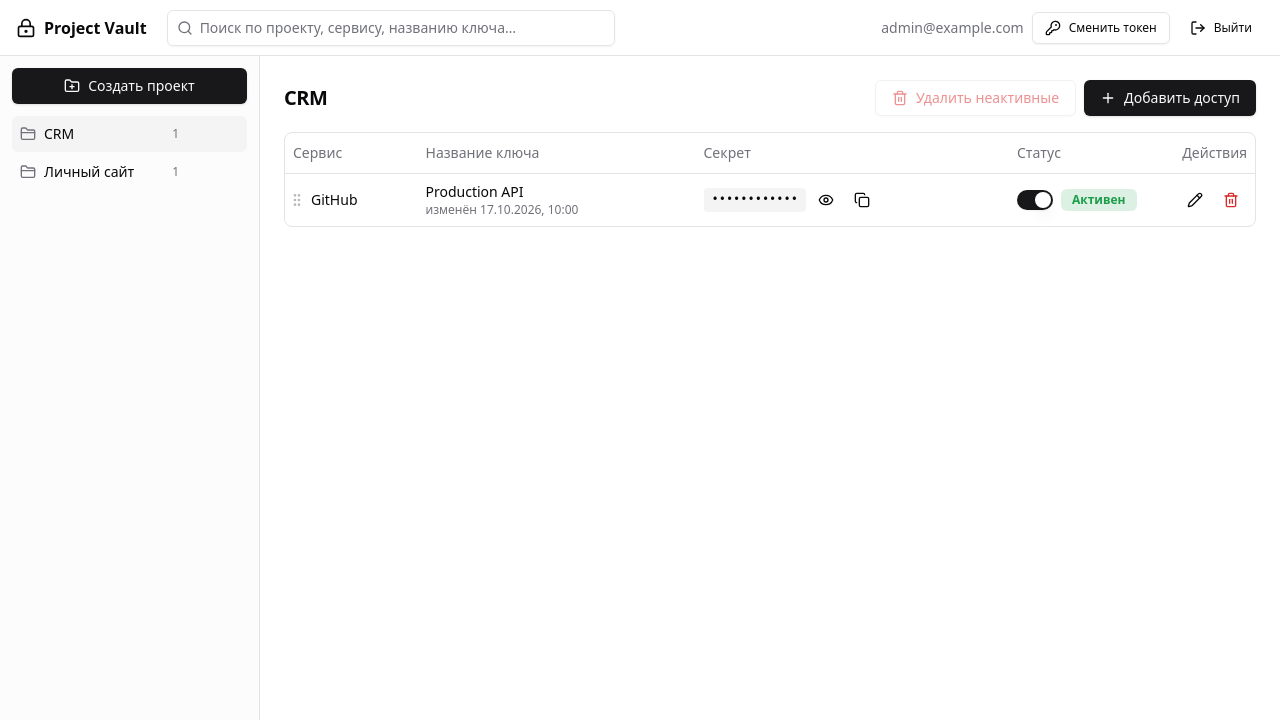
Test: dashboard › searches across projects by project, service and key name
Expected: the button "Создать проект" is shown, left=12, top=68, right=247, bottom=104
Expected: the cell "GitHub" is shown, left=285, top=173, right=418, bottom=226
Type "сайт" into the search field labelled "Поиск" at [391, 28], box left=167, top=10, right=615, bottom=46
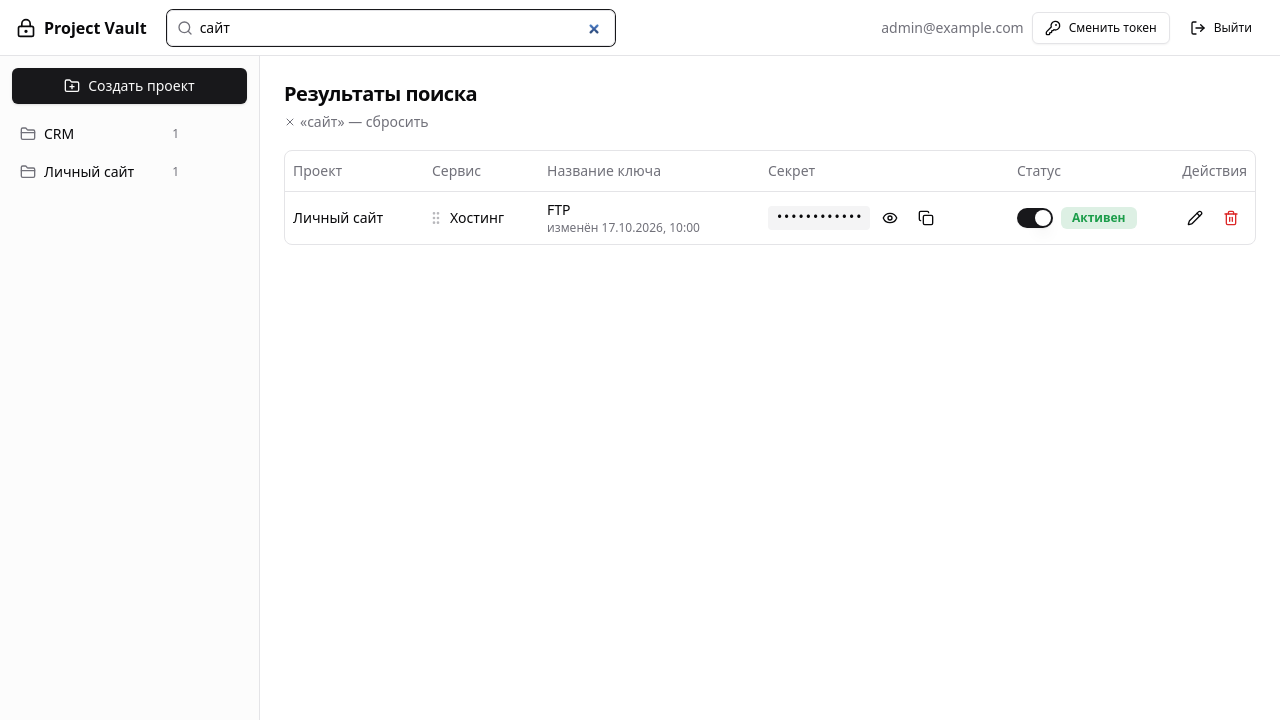
Now the heading "Результаты поиска" is shown, box left=284, top=80, right=477, bottom=108
Now the cell "Хостинг" is shown, box left=424, top=191, right=539, bottom=244
Now the cell "GitHub" is gone
